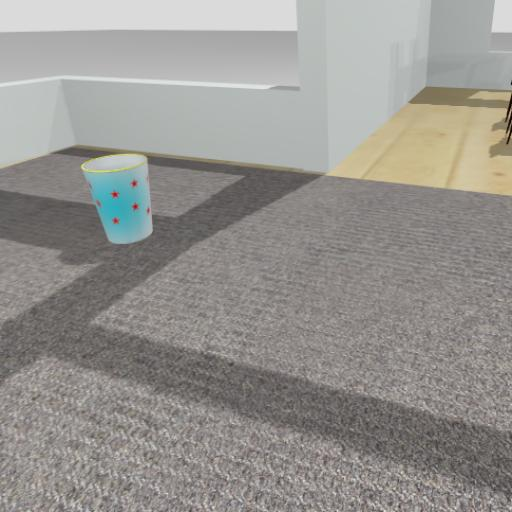Trash: (62, 119, 194, 274)
